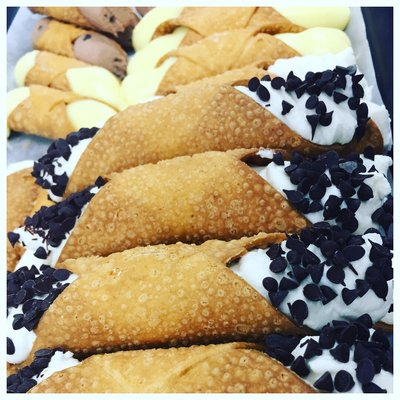sushi: (6, 9, 392, 382)
